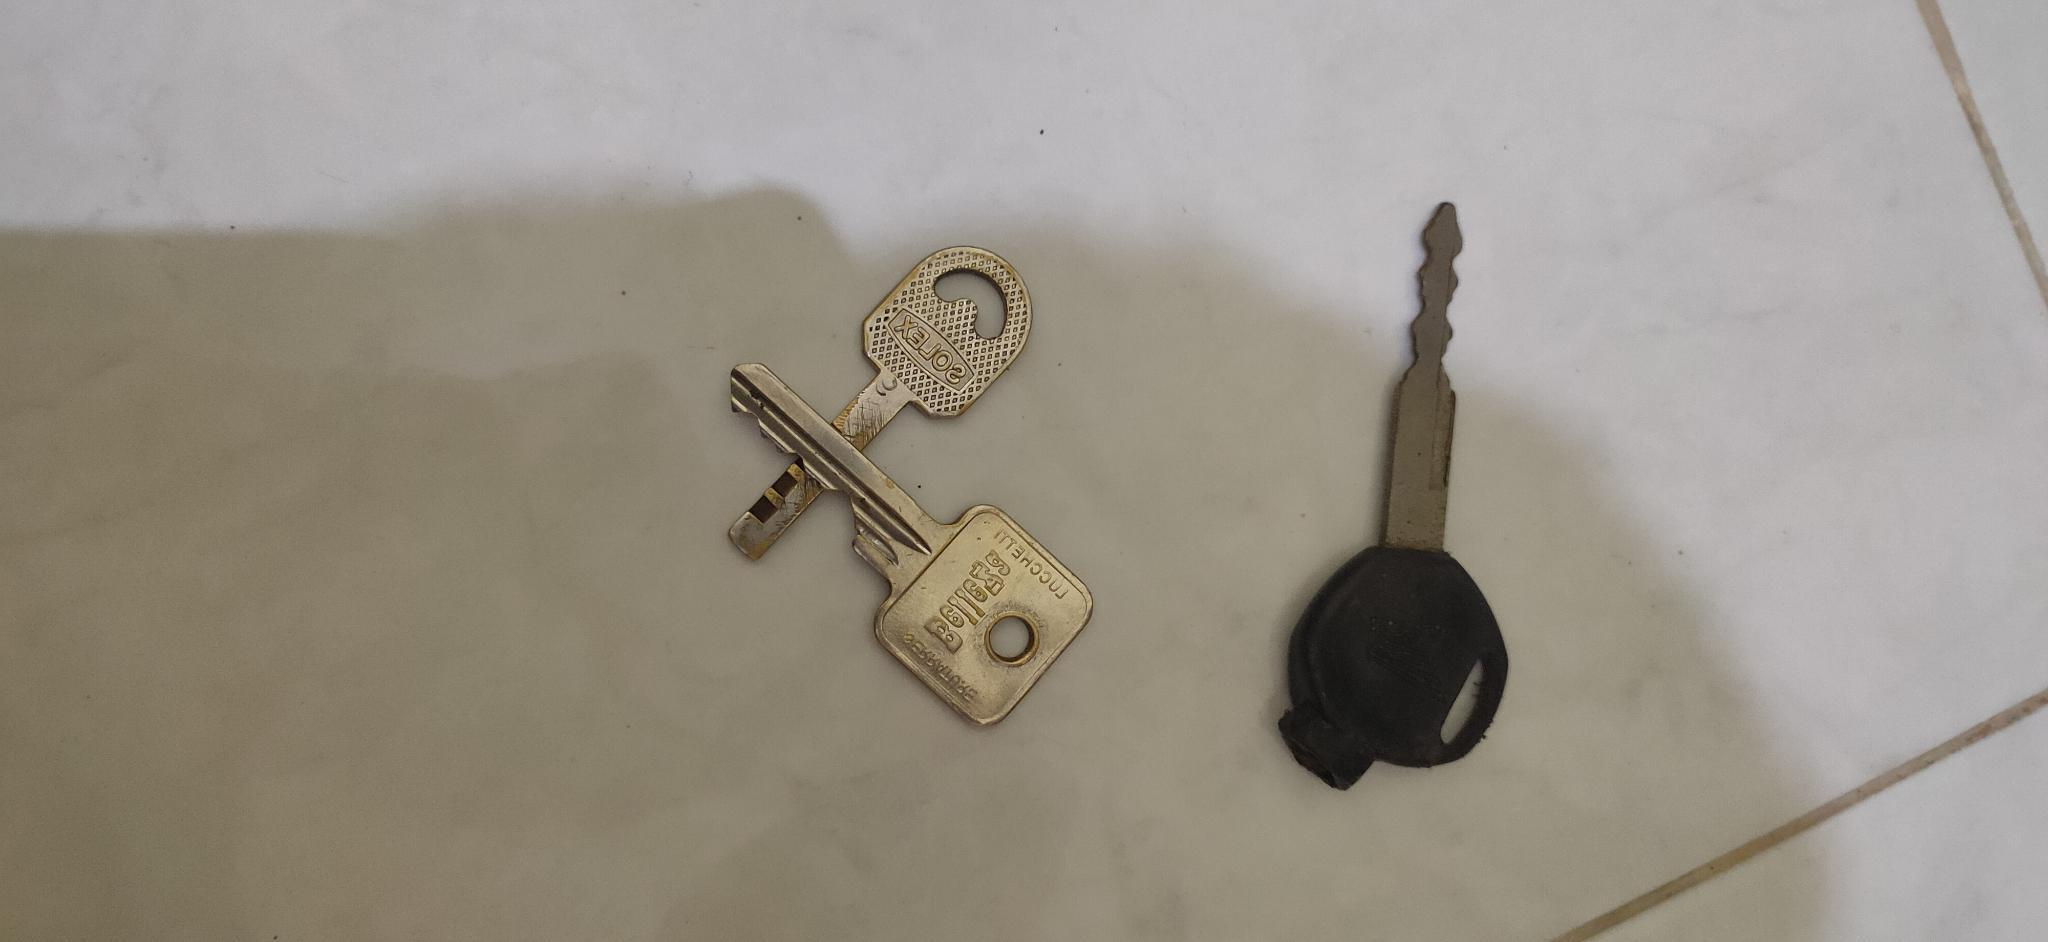keys: (1253, 169, 1533, 794), (717, 351, 1101, 755), (700, 229, 1037, 563)
